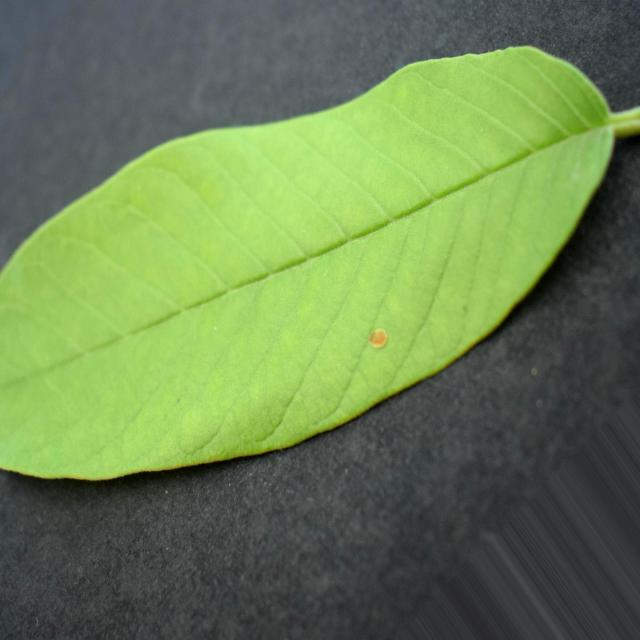Dot: (0, 47, 640, 480)
